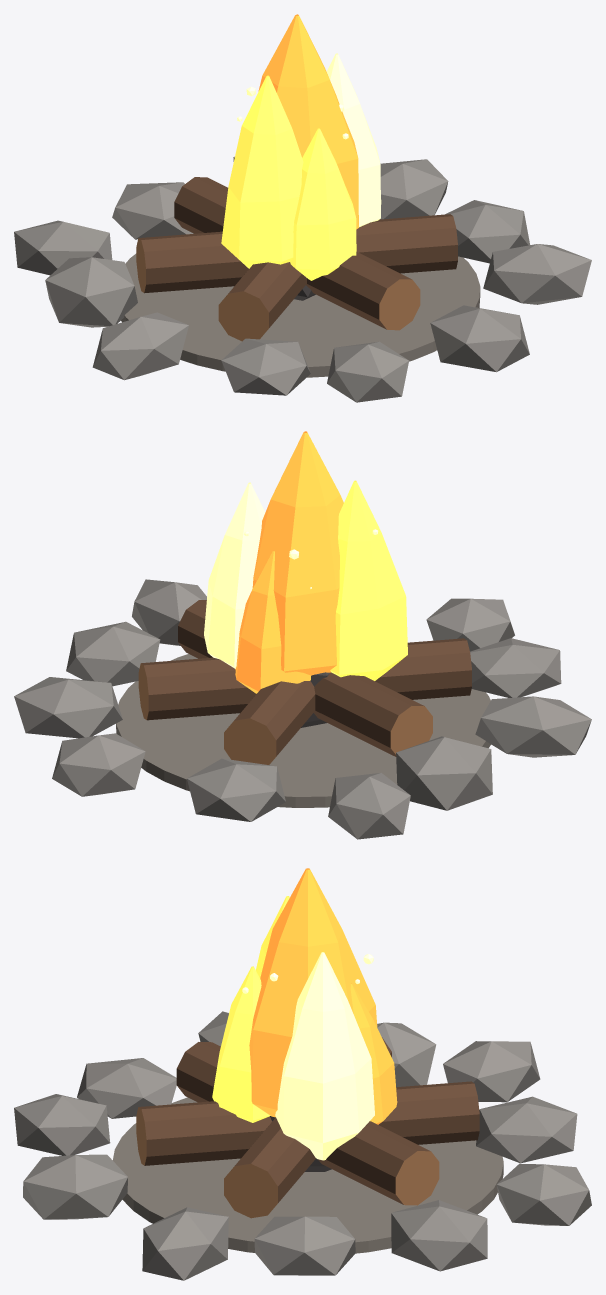
The model's file is hearth-fire.glb.
3 renders of one model, top to bottom at view 1: azimuth 30°, elevation 25°; view 2: azimuth 150°, elevation 25°; view 3: azimuth 270°, elevation 25°, orthographic. The views are drawn at different scales.
Visible parts, largest first — view 1: Hearth.Firebed, Hearth.Flame.01, Hearth.Log.01, Hearth.Log.00, Hearth.Flame.00, Hearth.Flame.04, Hearth.Stone.05, Hearth.Stone.10, Hearth.Stone.09, Hearth.Stone.06, Hearth.Log.02, Hearth.Stone.07 (+6 smaller); view 2: Hearth.Firebed, Hearth.Flame.00, Hearth.Flame.01, Hearth.Log.02, Hearth.Log.01, Hearth.Flame.02, Hearth.Stone.05, Hearth.Stone.06, Hearth.Stone.01, Hearth.Log.00, Hearth.Stone.03, Hearth.Flame.03 (+6 smaller); view 3: Hearth.Firebed, Hearth.Flame.02, Hearth.Flame.00, Hearth.Log.00, Hearth.Log.02, Hearth.Stone.09, Hearth.Stone.01, Hearth.Stone.03, Hearth.Stone.00, Hearth.Log.01, Hearth.Stone.10, Hearth.Stone.02 (+7 smaller).
Part boxes in pixels (x1,y1,x2,y2): Hearth.Firebed: (121,233,480,377); Hearth.Flame.01: (221,75,303,268); Hearth.Log.01: (136,214,457,293); Hearth.Log.00: (174,177,420,330); Hearth.Flame.00: (258,14,358,229); Hearth.Flame.04: (290,128,356,280); Hearth.Stone.05: (45,257,137,327); Hearth.Stone.10: (483,244,591,304); Hearth.Stone.09: (430,305,529,372); Hearth.Stone.06: (92,312,188,380); Hearth.Log.02: (218,262,306,341); Hearth.Stone.07: (221,338,310,395); Hearth.Firebed: (116,654,490,807); Hearth.Flame.00: (252,431,343,675); Hearth.Flame.01: (330,480,407,680); Hearth.Log.02: (138,638,471,720); Hearth.Log.01: (178,600,432,756); Hearth.Flame.02: (204,482,265,668); Hearth.Stone.05: (396,736,492,810); Hearth.Stone.06: (475,696,591,757); Hearth.Stone.01: (14,677,122,738); Hearth.Log.00: (224,680,315,764); Hearth.Stone.03: (187,758,285,821); Hearth.Flame.03: (235,550,310,693); Hearth.Firebed: (112,1097,503,1253); Hearth.Flame.02: (275,952,374,1160); Hearth.Flame.00: (249,868,377,1117); Hearth.Log.00: (136,1081,479,1165); Hearth.Log.02: (176,1042,439,1205); Hearth.Stone.09: (23,1154,127,1219); Hearth.Stone.01: (391,1200,487,1271); Hearth.Stone.03: (476,1096,577,1163); Hearth.Stone.00: (254,1216,355,1275); Hearth.Log.01: (224,1037,391,1218); Hearth.Stone.10: (142,1207,228,1280); Hearth.Stone.02: (496,1163,591,1225).
Size of the model in its own units: 2.27 by 1.4 by 2.3.
